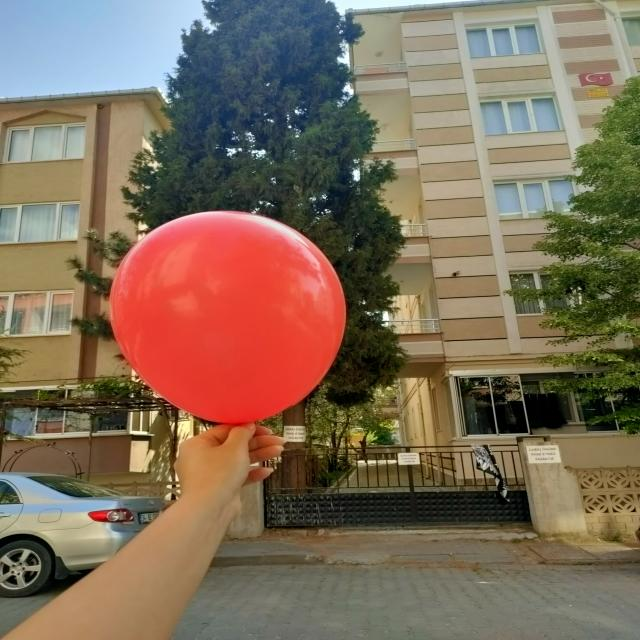red: (112, 213, 348, 421)
